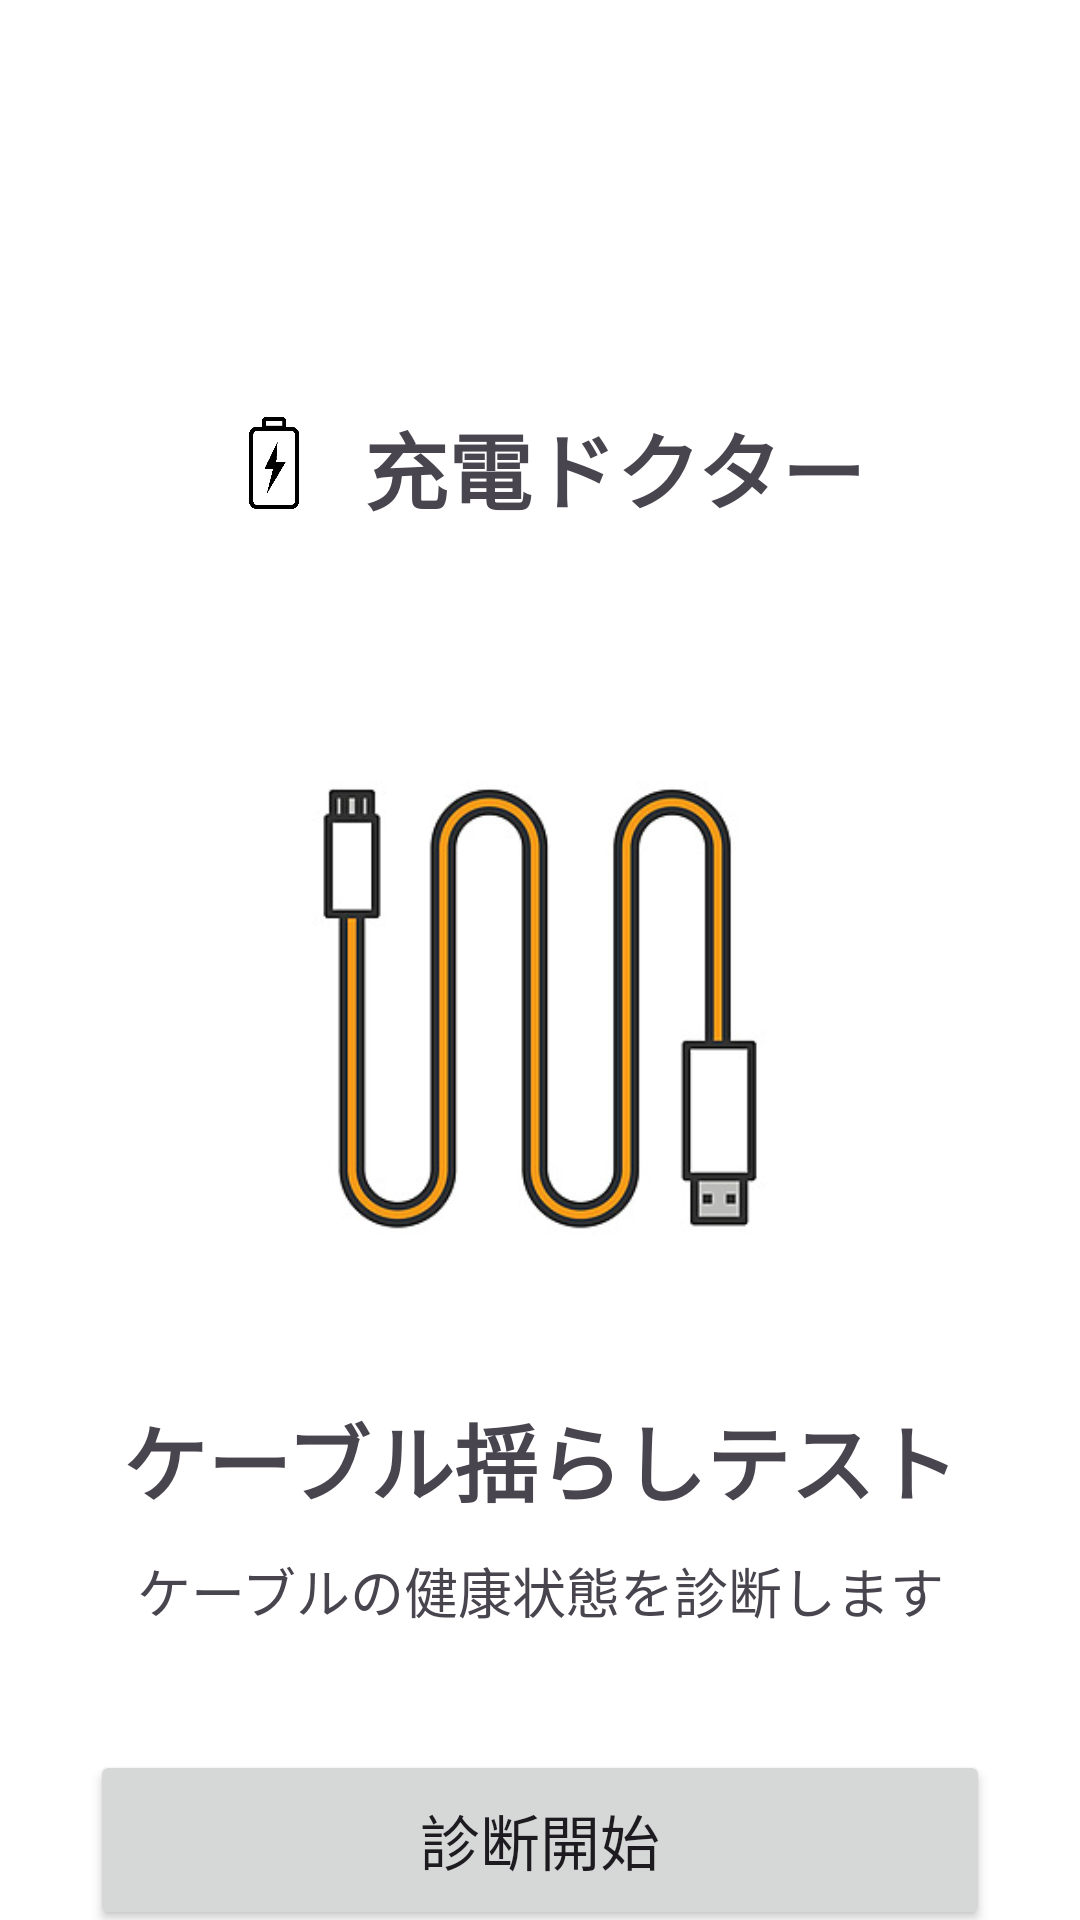

Named icons in this screenshot (1080×1920) and their centers, (x,y):
battery: (274,463)
